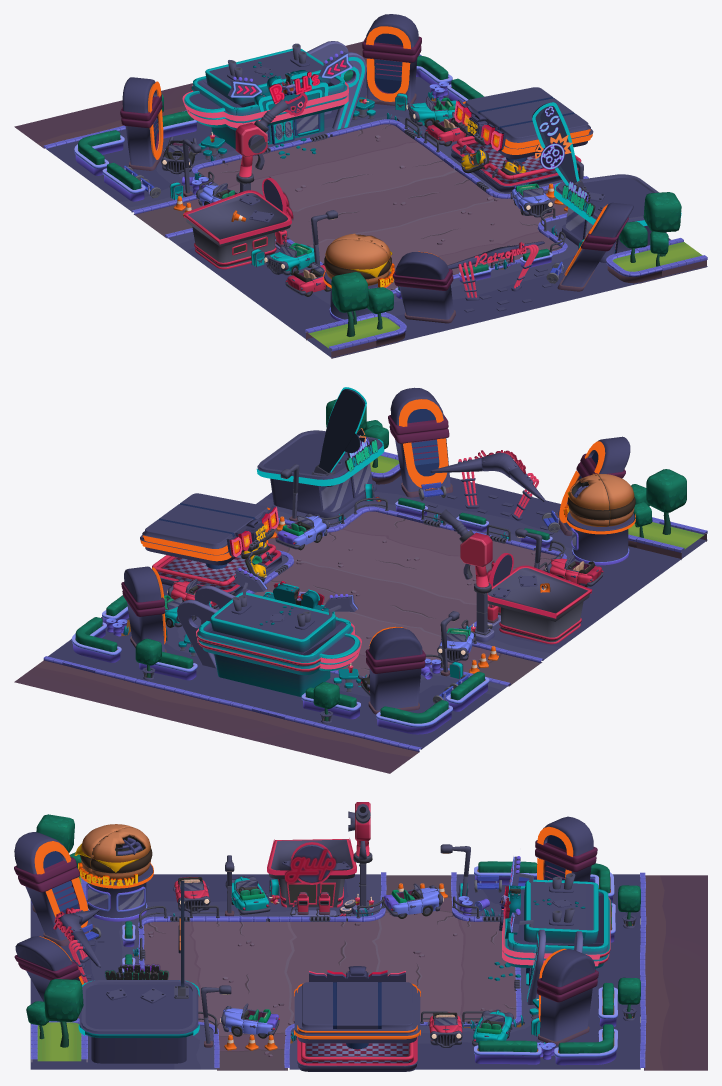
The model's file is retropolis_scene.glb.
The picture shows the model from 3 angles, top to bottom: view 1: azimuth 30°, elevation 25°; view 2: azimuth 150°, elevation 25°; view 3: azimuth 270°, elevation 25°; orthographic projection. The views are drawn at different scales.
Visible parts, largest first — view 1: ground_plane, pavement, bulls_diner, Cube_094, trees_bottom_002, trees_bottom_003, jukebox_right, Cube_097, rear_curb, jukebox_left_001, jukebox_left, Cube_059 (+27 smaller); view 2: pavement, ground_plane, bulls_diner, rear_curb, Cube_094, Cube_097, Cylinder_025, jukebox_left_002, jukebox_left, trees_bottom_003, Cube_059, jukebox_right (+19 smaller); view 3: ground_plane, pavement, rear_curb, Cube_094, Cube_097, bulls_diner, Cylinder_025, jukebox_left_001, jukebox_right, trees_bottom_002, jukebox_left, curb (+28 smaller).
Part boxes in pixels (<box>): ground_plane: <box>133,124,567,290</box>; pavement: <box>46,74,707,358</box>; bulls_diner: <box>183,41,366,149</box>; Cube_094: <box>451,87,593,192</box>; trees_bottom_002: <box>606,192,707,283</box>; trees_bottom_003: <box>305,272,406,358</box>; jukebox_right: <box>362,14,421,105</box>; Cube_097: <box>554,174,681,262</box>; rear_curb: <box>14,41,421,148</box>; jukebox_left_001: <box>392,251,455,323</box>; jukebox_left: <box>120,77,163,170</box>; Cube_059: <box>184,191,290,247</box>; pavement: <box>48,475,707,749</box>; ground_plane: <box>254,511,556,686</box>; bulls_diner: <box>177,585,360,696</box>; rear_curb: <box>14,656,421,773</box>; Cube_094: <box>140,493,282,595</box>; Cube_097: <box>256,430,384,518</box>; Cylinder_025: <box>567,473,635,565</box>; jukebox_left_002: <box>388,387,452,497</box>; jukebox_left: <box>365,626,425,714</box>; trees_bottom_003: <box>628,469,707,559</box>; Cube_059: <box>487,567,591,621</box>; jukebox_right: <box>121,566,166,652</box>; ground_plane: <box>143,875,516,1070</box>; pavement: <box>30,874,640,1069</box>; rear_curb: <box>640,872,707,1070</box>; Cube_094: <box>294,982,420,1071</box>; Cube_097: <box>78,980,199,1063</box>; bulls_diner: <box>503,873,610,1004</box>; Cylinder_025: <box>74,824,153,921</box>; jukebox_left_001: <box>14,832,94,946</box>; jukebox_right: <box>537,948,598,1045</box>; trees_bottom_002: <box>26,979,87,1062</box>; jukebox_left: <box>535,816,597,881</box>; curb: <box>138,872,521,1069</box>.
Bounding box in the file's own units: 170 × 57.56 × 246.
Materials: 26 (14 with a texture image).
